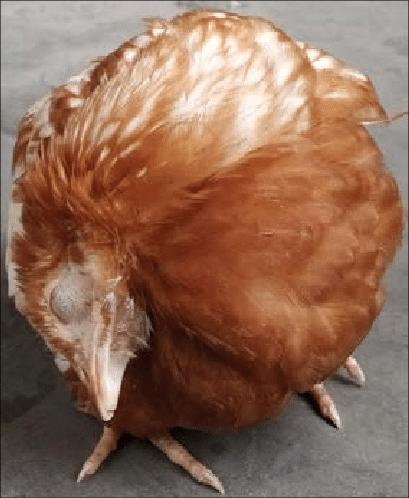AbNormal: (0, 7, 406, 489)
